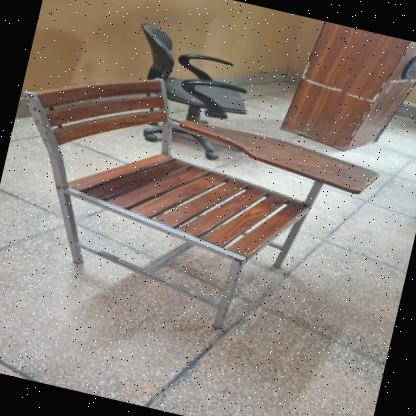chair: (0, 46, 396, 355), (104, 16, 268, 165)
